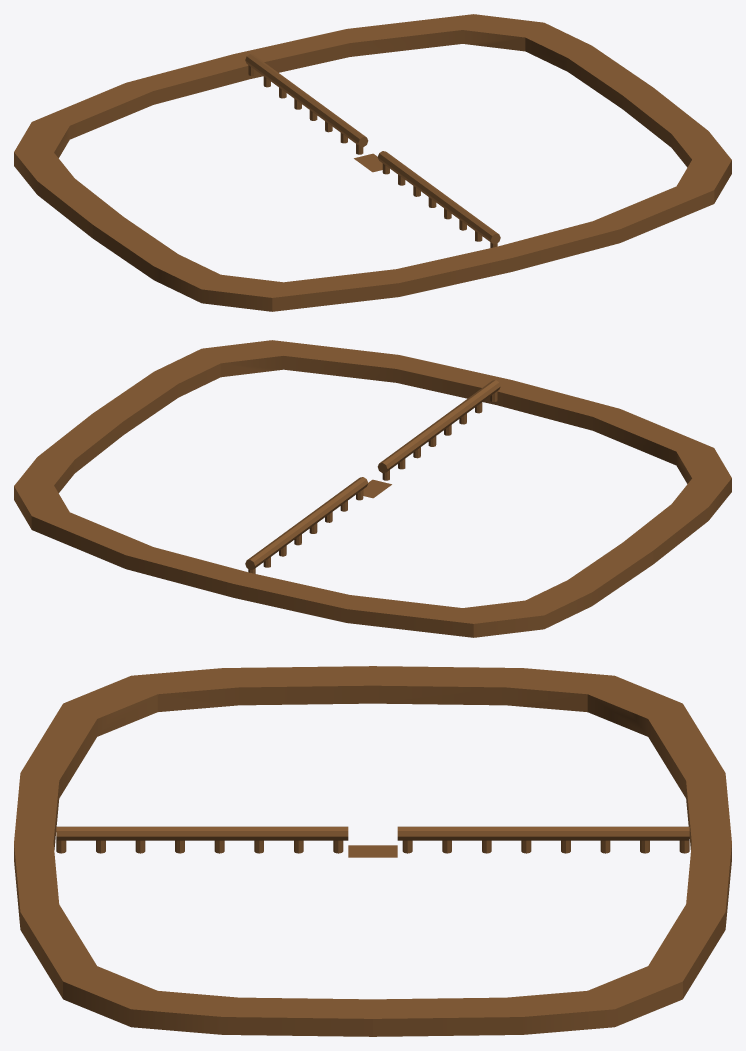
Rendered from ArenaGroundColor.fbx.
3 views of the same model, one above another, from view 1: azimuth 30°, elevation 25°; view 2: azimuth 150°, elevation 25°; view 3: azimuth 270°, elevation 25° (orthographic). The views are drawn at different scales.
Visible parts, largest first — view 1: BOUNDARY_ARENA, FENCE_ARENA; view 2: BOUNDARY_ARENA, FENCE_ARENA; view 3: BOUNDARY_ARENA, FENCE_ARENA.
Boxes of the visible parts, bbox=[...] form: BOUNDARY_ARENA: bbox=[14, 14, 731, 311]; FENCE_ARENA: bbox=[245, 54, 500, 247]; BOUNDARY_ARENA: bbox=[14, 340, 731, 637]; FENCE_ARENA: bbox=[245, 380, 500, 573]; BOUNDARY_ARENA: bbox=[14, 666, 731, 1036]; FENCE_ARENA: bbox=[56, 826, 689, 857].
Size of what is drawn, in the model's own units: 84.37 by 3.75 by 72.56.
